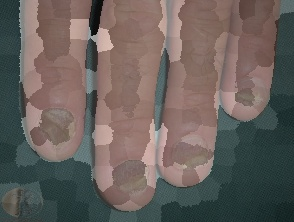Nail_psoriasis: (156, 114, 226, 183), (214, 55, 284, 124), (100, 144, 164, 213), (29, 99, 84, 160)
